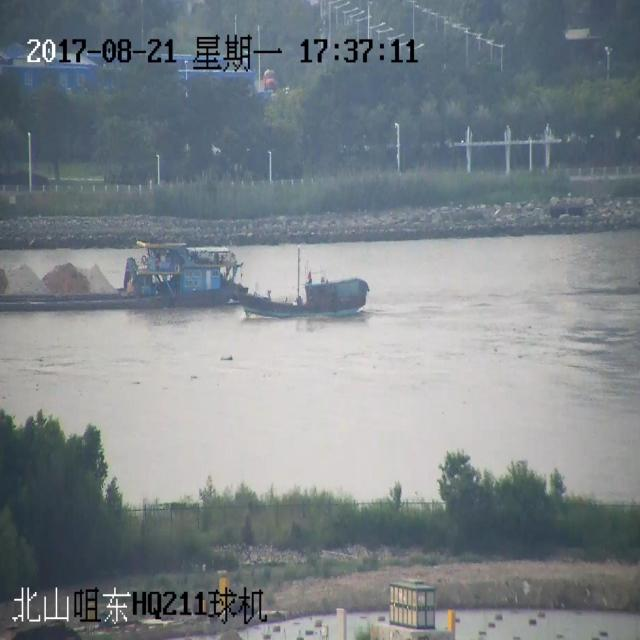cargoship: (0, 244, 226, 337)
fishing boat: (226, 266, 375, 343)
